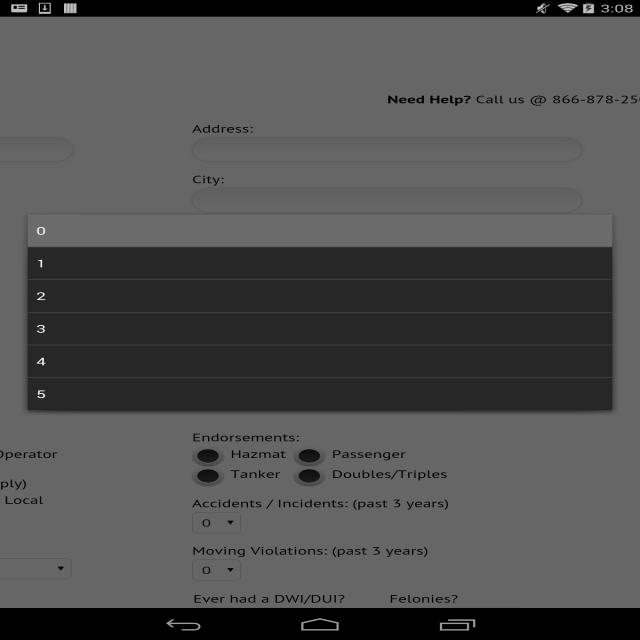Button: (18, 211, 625, 250)
EditText: (188, 136, 598, 167), (191, 184, 594, 209)
RadioButton: (189, 445, 225, 466), (289, 444, 324, 464), (189, 468, 223, 487), (293, 467, 325, 485)
TextView: (380, 86, 630, 110), (189, 540, 432, 560), (192, 588, 352, 607), (329, 445, 408, 464), (184, 117, 265, 133)
